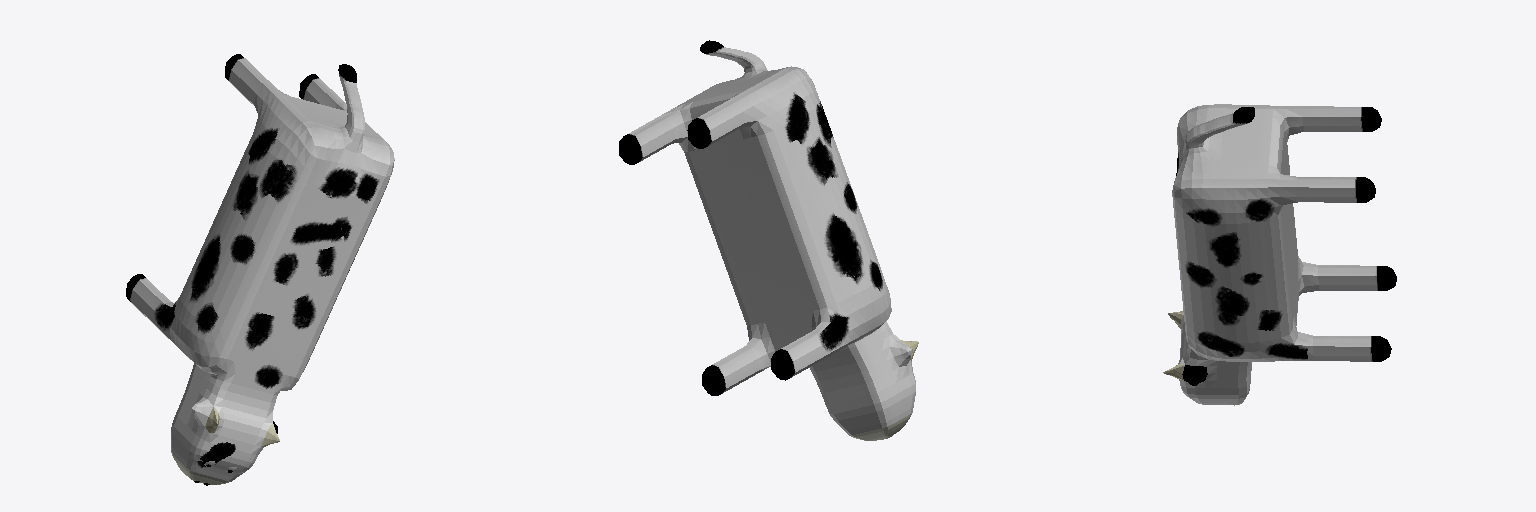
3 views of the same model, side by side, from view 1: azimuth 30°, elevation 25°; view 2: azimuth 150°, elevation 25°; view 3: azimuth 270°, elevation 25° (orthographic).
Parts seen in each view (by area): view 1: Box001; view 2: Box001; view 3: Box001.
Boxes of the visible parts, x1=… form: Box001: x1=126, y1=54, x2=394, y2=485; Box001: x1=619, y1=40, x2=918, y2=440; Box001: x1=1163, y1=104, x2=1396, y2=405.
Bounding box in the file's own units: 42.35 × 70.4 × 40.62.
Materials: 1 (1 with a texture image).